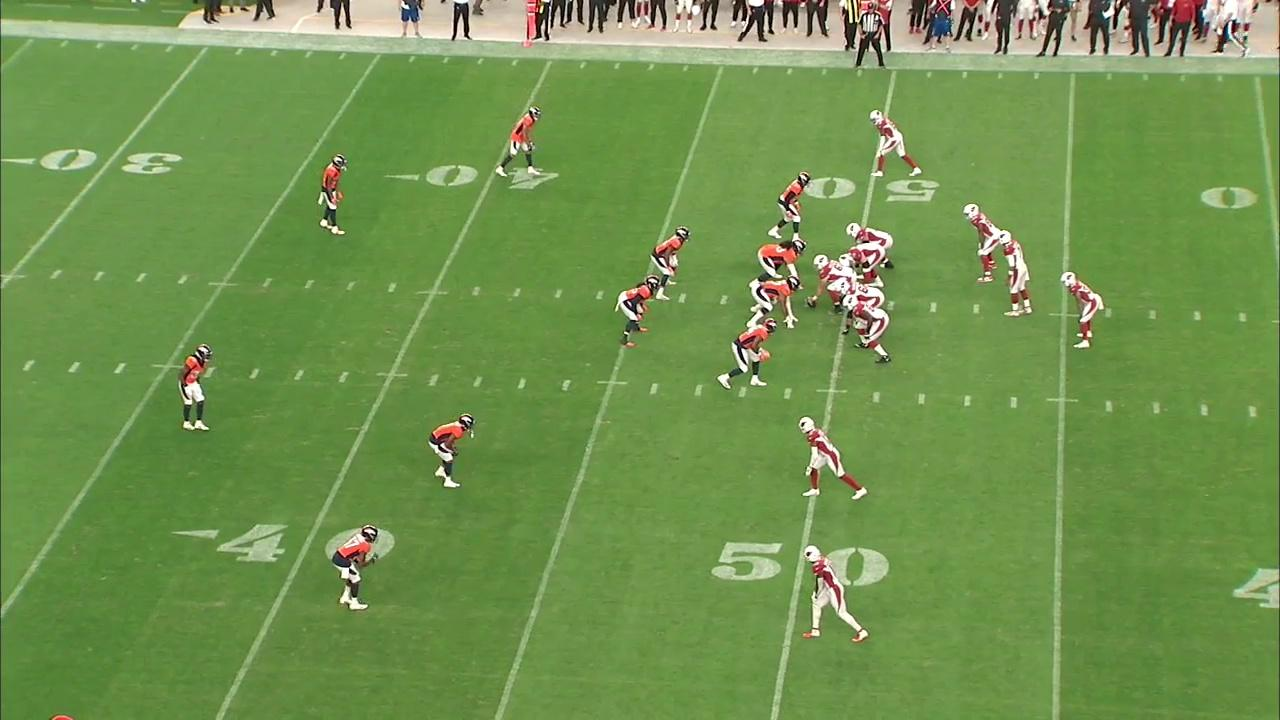player: (793, 542, 873, 650), (792, 418, 872, 510), (419, 405, 480, 505), (323, 523, 385, 617), (712, 311, 779, 392), (864, 100, 925, 186), (173, 338, 219, 441), (491, 99, 545, 183), (1057, 268, 1105, 362), (609, 275, 665, 350), (646, 223, 694, 303), (962, 200, 1005, 289), (840, 298, 892, 368), (998, 226, 1036, 321), (741, 275, 802, 329), (315, 148, 351, 239), (766, 173, 812, 244), (804, 253, 864, 303), (752, 236, 810, 284), (837, 246, 891, 287), (846, 223, 898, 252), (833, 284, 885, 308)
ref: (856, 2, 885, 58)
